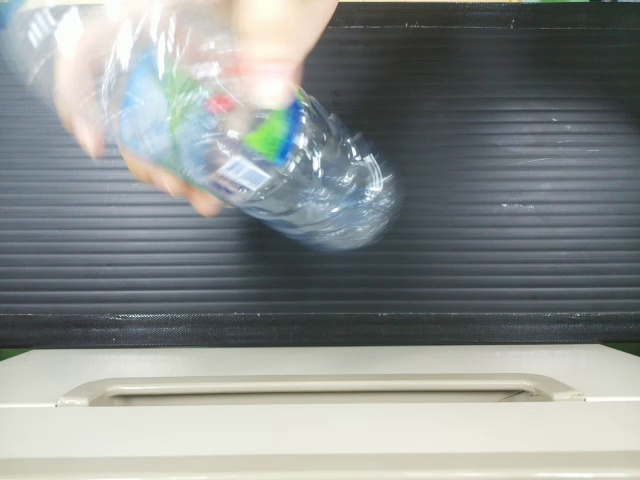bottle: (0, 0, 409, 257)
